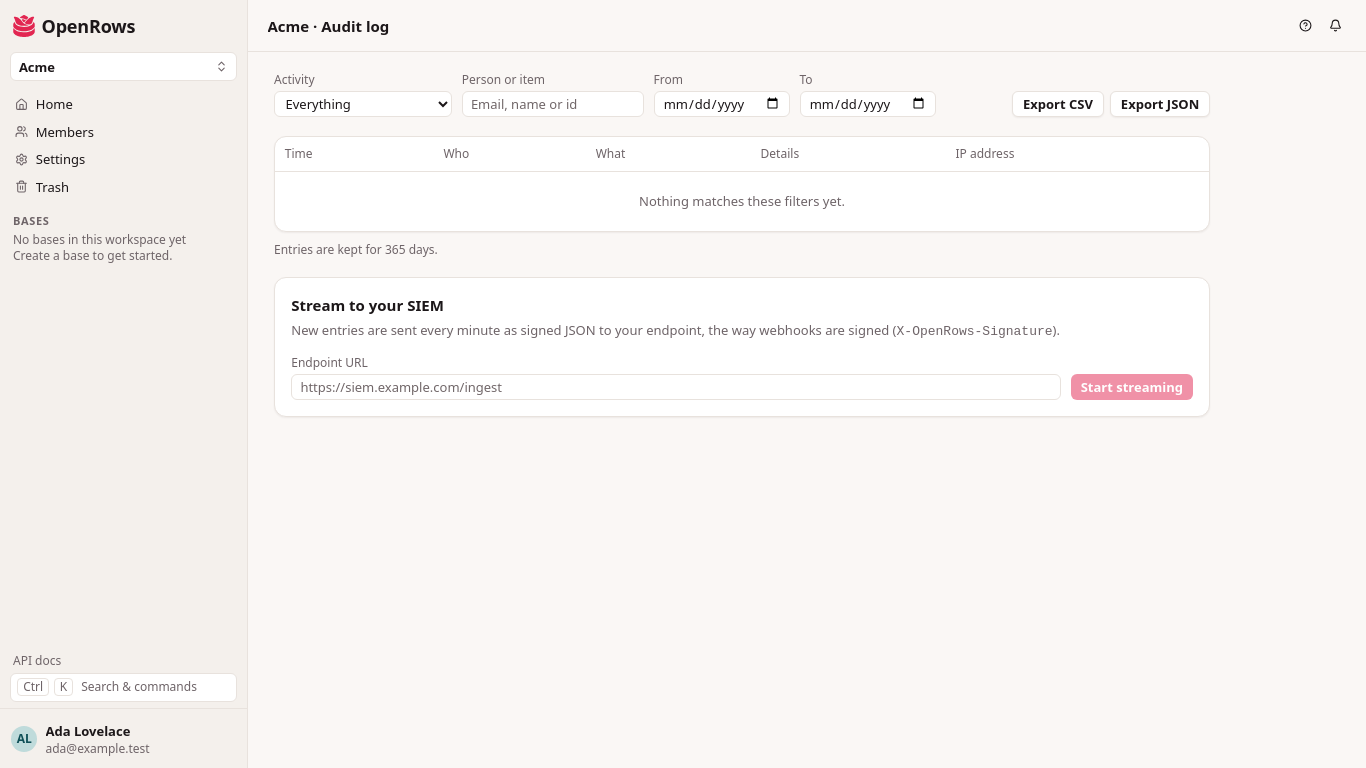
Test case: the workspace audit log page (#157) › sets up the SIEM stream and shows its secret once
The width and height of the screenshot is (1366, 768).
expect the text "Nothing matches these filters yet." is shown: met, box [639, 192, 845, 210]
In the field labelled "Endpoint URL": [676, 387] box [291, 374, 1061, 400], type "https://siem.example.test/ingest"
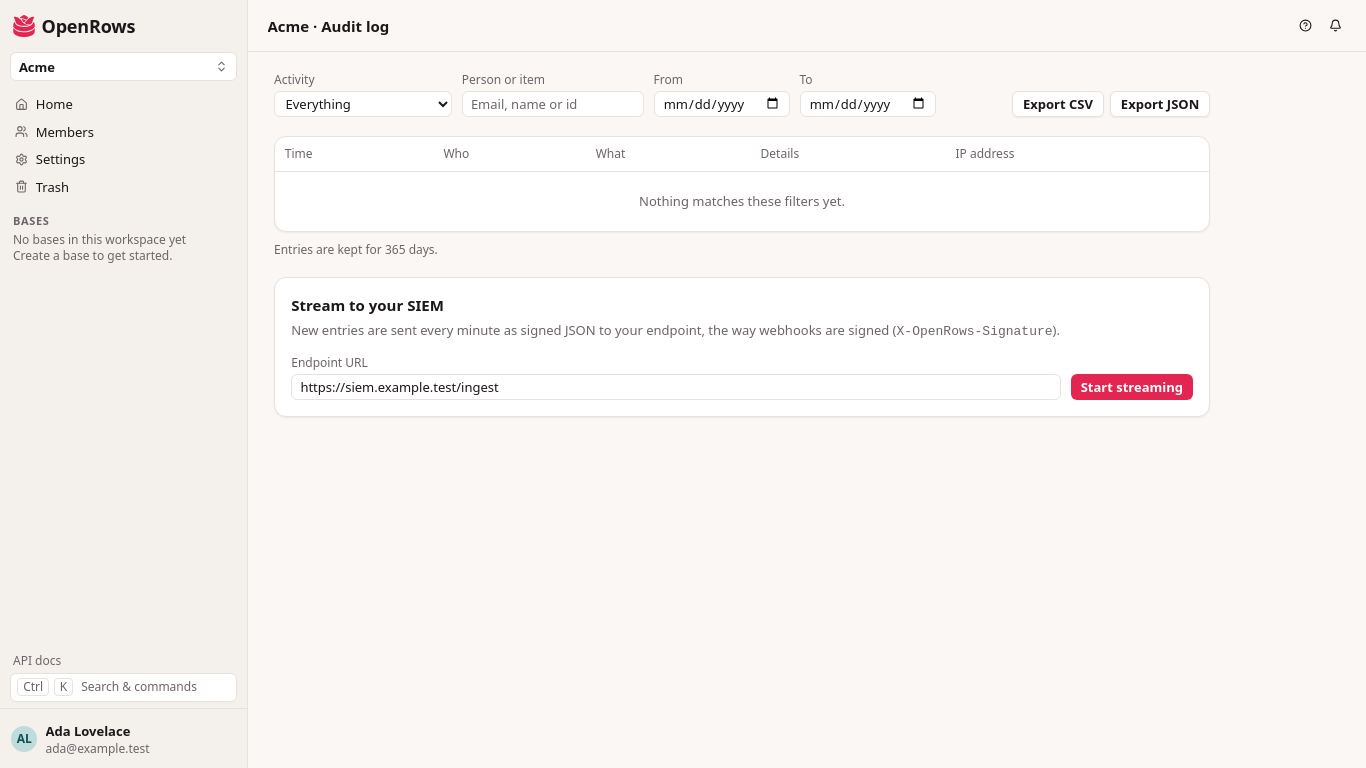
Click the button "Start streaming": [1132, 387] box [1071, 374, 1193, 400]
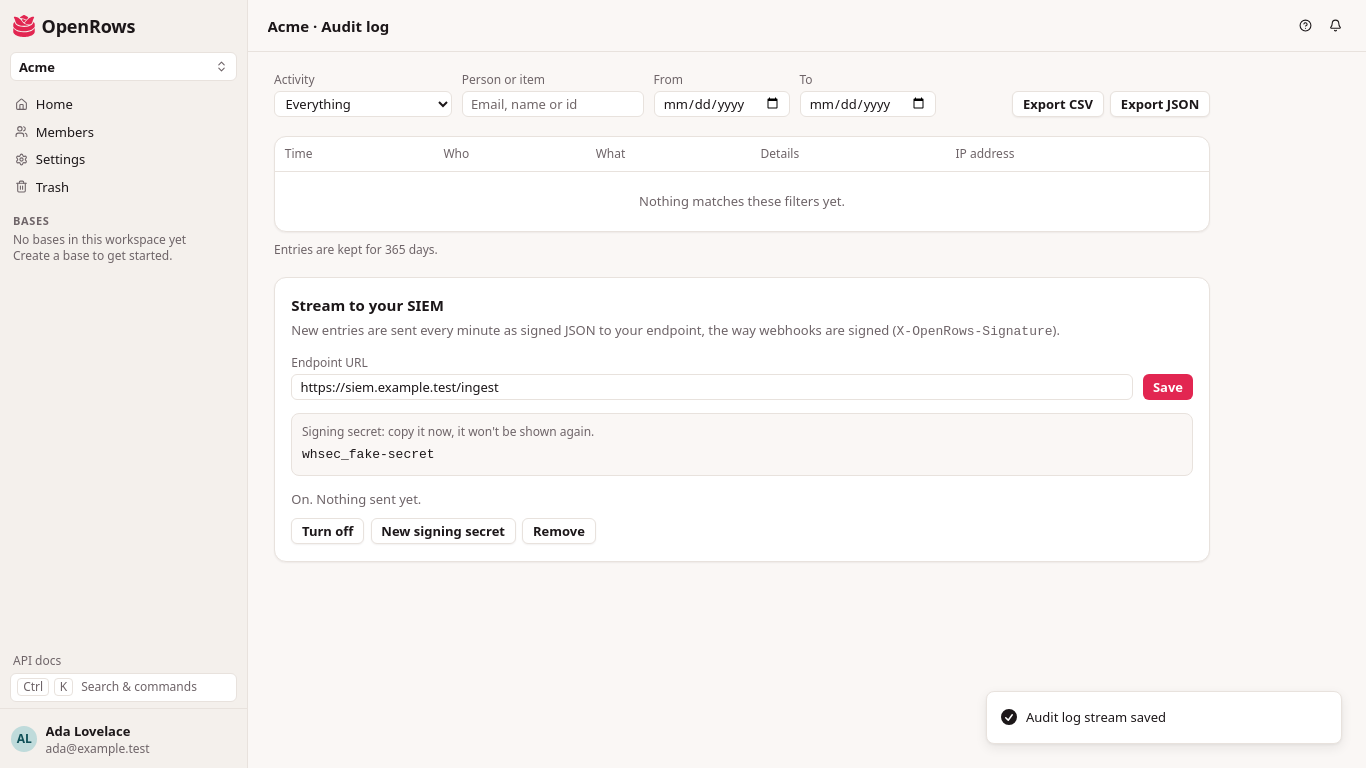
expect the text with test id "audit-stream-secret" reads "whsec_fake-secret": met, box [302, 447, 435, 462]
expect the text with test id "audit-stream-state" reads "On. Nothing sent yet.": met, box [291, 490, 421, 508]
